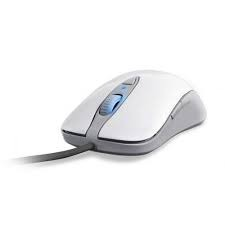mouse: (53, 69, 217, 159)
